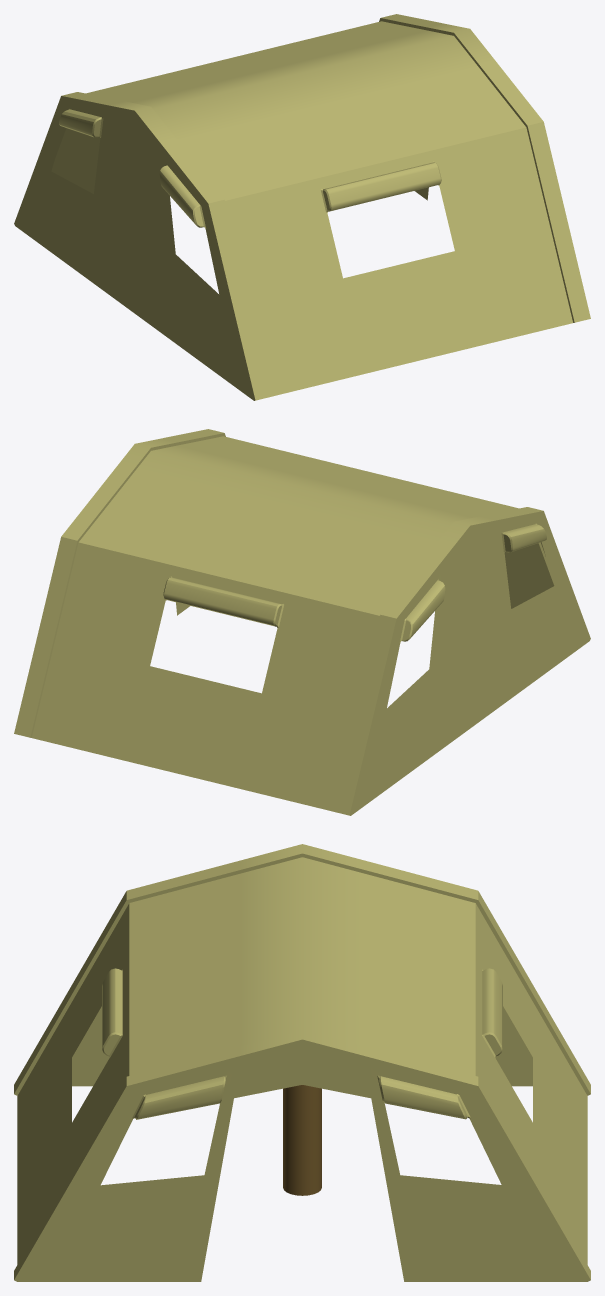
Rendered from tent01.fbx.
The picture shows the model from 3 angles, top to bottom: view 1: azimuth 30°, elevation 25°; view 2: azimuth 150°, elevation 25°; view 3: azimuth 270°, elevation 25°; orthographic projection. The views are drawn at different scales.
Visible parts, largest first — view 1: pCube1; view 2: pCube1; view 3: pCube1, pCylinder1.
Boxes of the visible parts, left/top/right/bottom form: pCube1: left=14, top=14, right=590, bottom=400; pCube1: left=14, top=429, right=590, bottom=815; pCube1: left=14, top=844, right=590, bottom=1281; pCylinder1: left=283, top=1085, right=321, bottom=1195.
Size of the model in its own units: 24.97 by 13.94 by 29.64.
